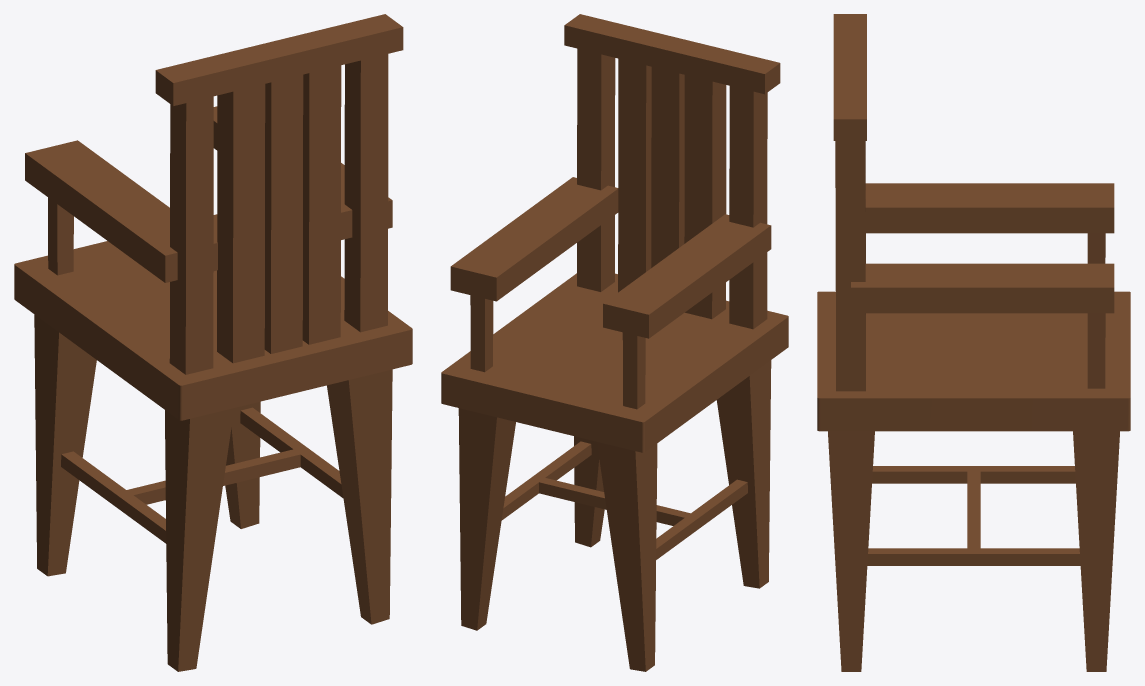
File: Chairs.glb
3 views of the same model, side by side, from view 1: azimuth 30°, elevation 25°; view 2: azimuth 150°, elevation 25°; view 3: azimuth 270°, elevation 25° (orthographic). The views are drawn at different scales.
Visible parts, largest first — view 1: Root; view 2: Root; view 3: Root.
Boxes of the visible parts, x1,y1,x2,y2 form: Root: (14,14,412,671); Root: (441,14,788,671); Root: (817,14,1130,671).
Size of the model in its own units: 0.5043 by 1.23 by 0.6254.
